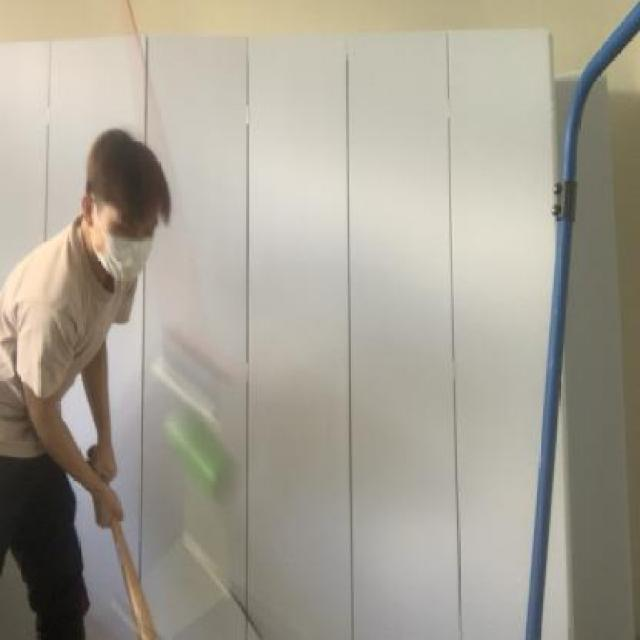baseball: (155, 392, 248, 510)
